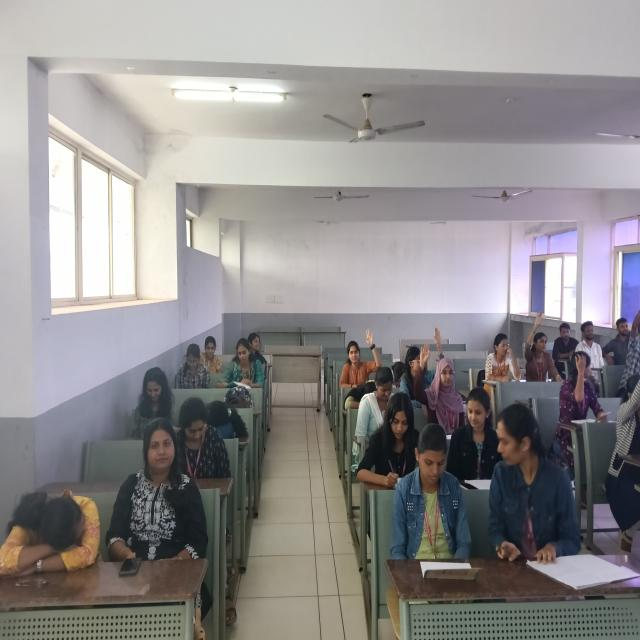Hand Rising: (412, 342, 461, 427), (524, 307, 555, 383), (343, 324, 380, 386)
Reading: (217, 338, 262, 390), (175, 341, 209, 391)
Sleeping: (0, 486, 106, 583)
Using Phone: (394, 421, 468, 556), (176, 395, 234, 484), (564, 350, 615, 430), (131, 365, 178, 441)
Writing: (363, 391, 420, 486)
